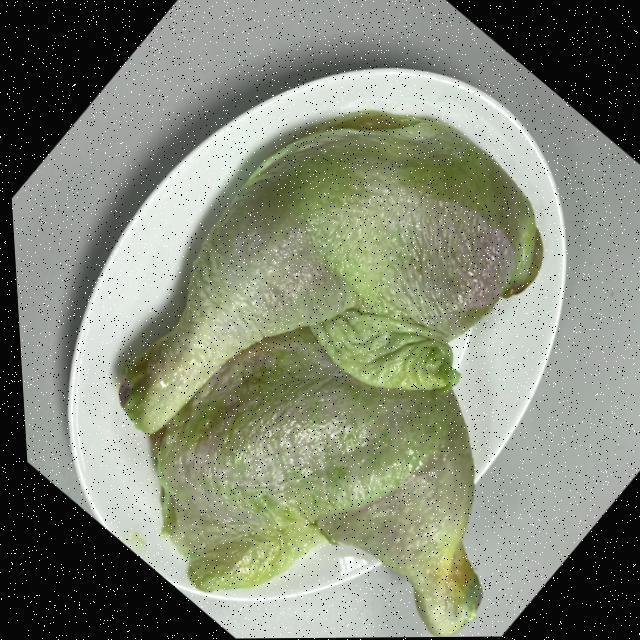quater: (124, 102, 526, 424), (186, 352, 484, 620)
